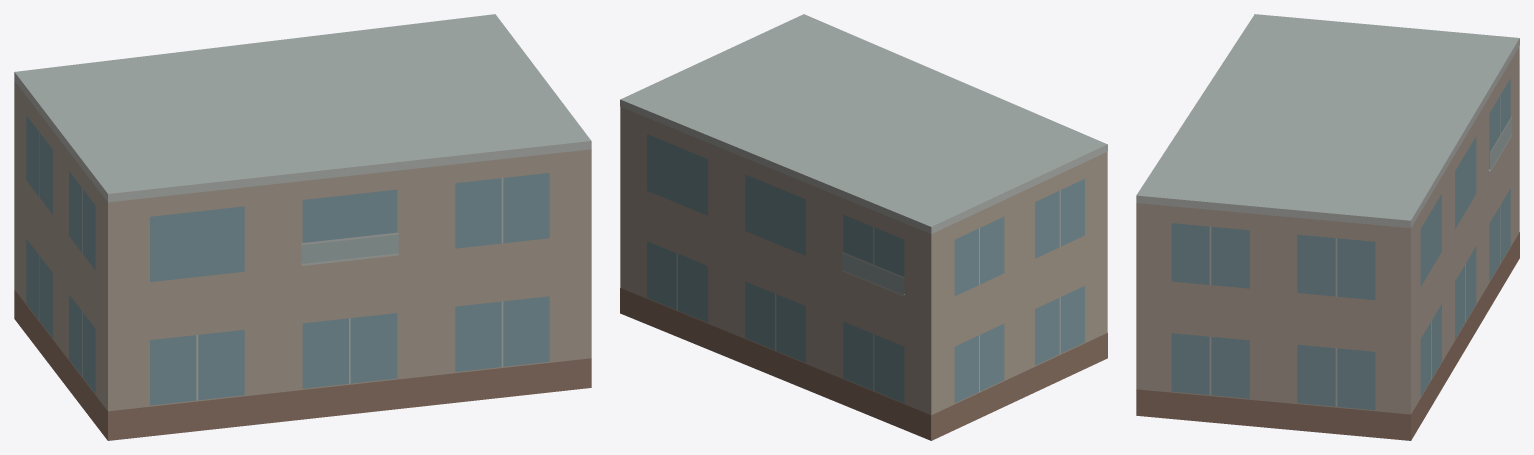
Rendered from survey-upis-32939660.glb.
The picture shows the model from 3 angles, left to right: view 1: azimuth 30°, elevation 25°; view 2: azimuth 150°, elevation 25°; view 3: azimuth 270°, elevation 25°; orthographic projection. The views are drawn at different scales.
Parts seen in each view (by area): view 1: survey-upis-32939660.tmp; view 2: survey-upis-32939660.tmp; view 3: survey-upis-32939660.tmp.
Boxes of the visible parts, x1=… form: survey-upis-32939660.tmp: x1=14, y1=14, x2=591, y2=440; survey-upis-32939660.tmp: x1=620, y1=14, x2=1107, y2=440; survey-upis-32939660.tmp: x1=1136, y1=14, x2=1519, y2=440.
Bounding box in the file's own units: 14.51 × 7.2 × 11.38.
